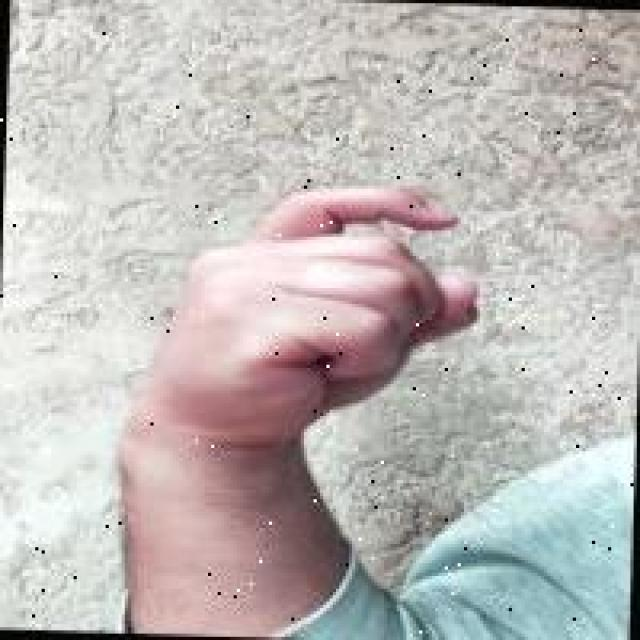X: (124, 175, 490, 462)
